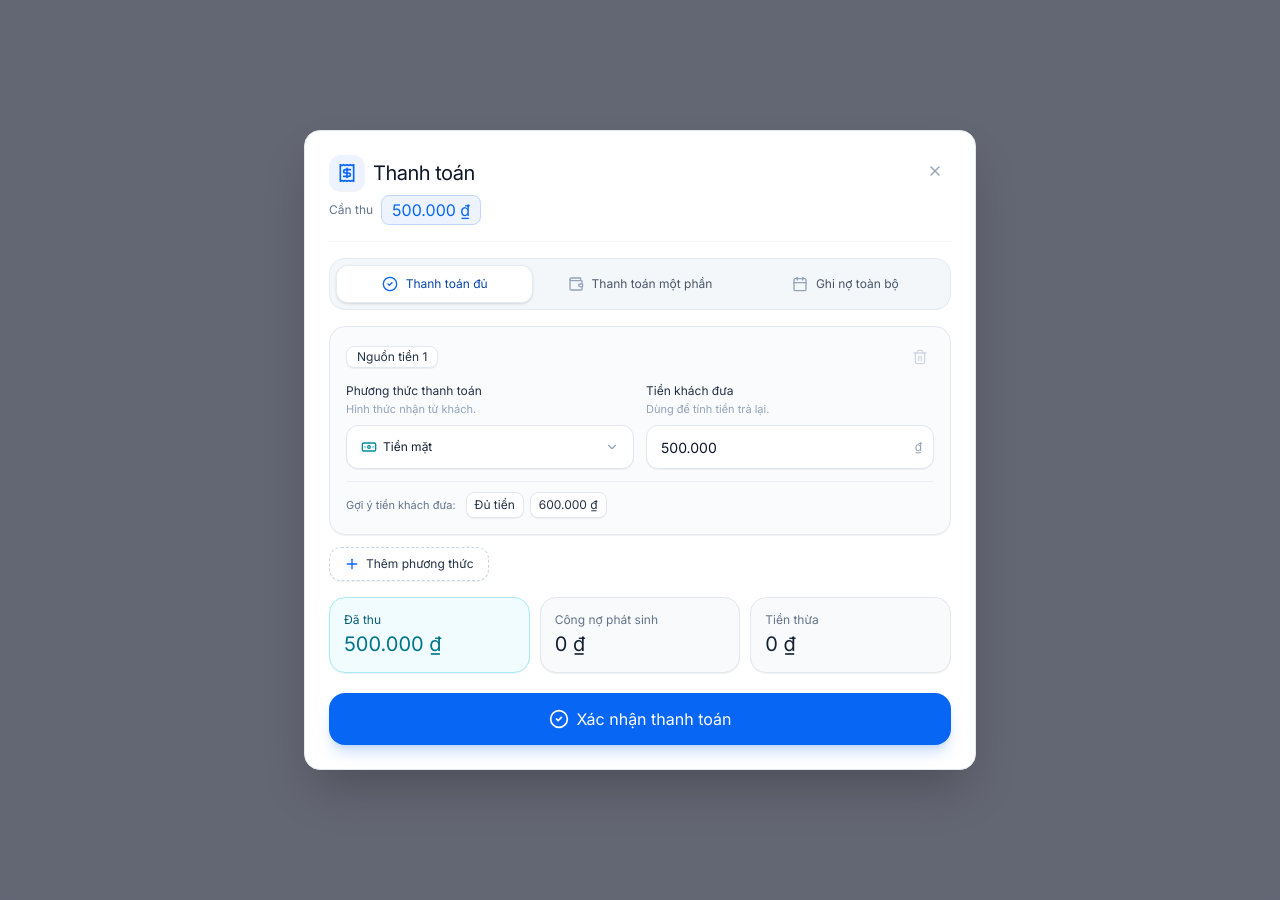
Test case: PaymentDialog › requires customer and due date for debt modes
Step 1. Click the button "Ghi nợ toàn bộ" → (845, 284), box [747,265,944,303]
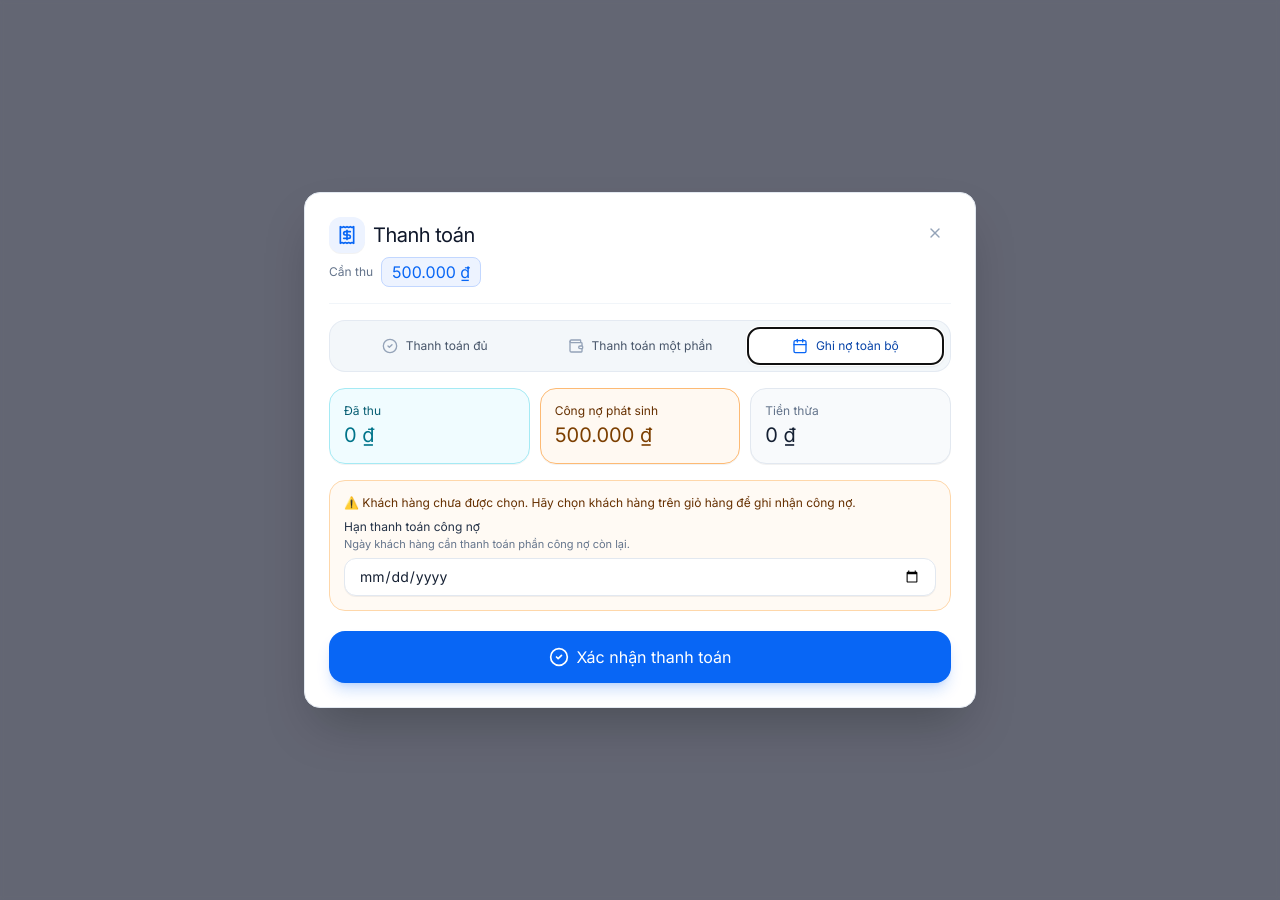
Step 2. Click the button "Xác nhận thanh toán" → (640, 657), box [329,631,951,683]
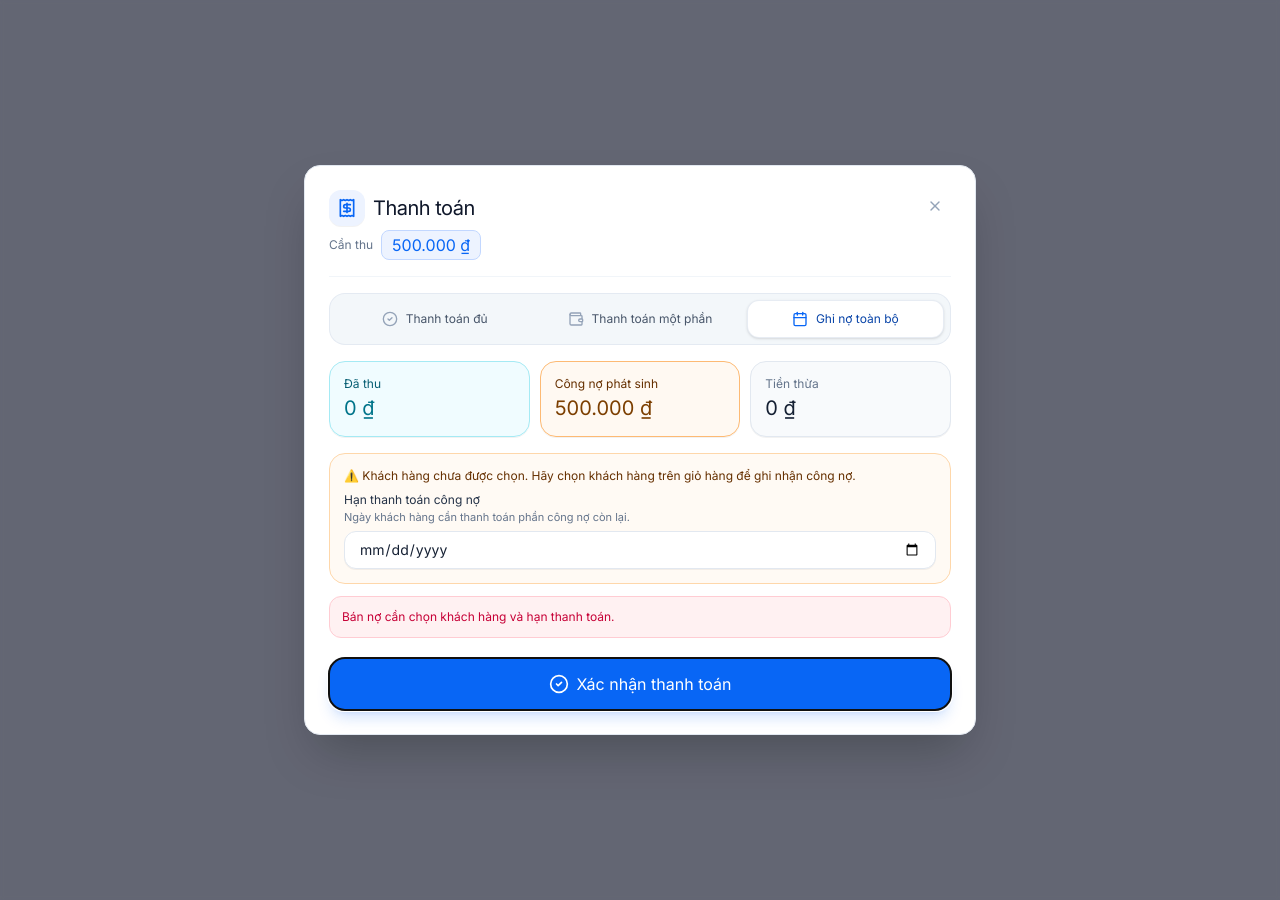
Expected: the message shows "khách hàng", [342,609,615,624]
